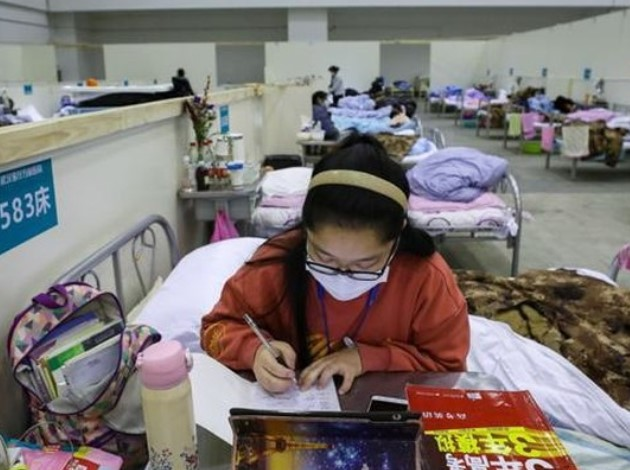face_with_mask: (295, 164, 411, 303)
